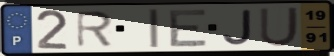2: (36, 8, 69, 50)
E: (168, 8, 210, 49)
I: (147, 7, 161, 49)
J: (221, 8, 254, 46)
R: (74, 9, 115, 49)
U: (258, 5, 301, 48)
